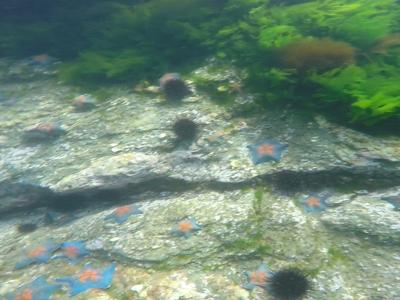urchin: (270, 271, 310, 296), (172, 118, 201, 142), (167, 79, 190, 102)
